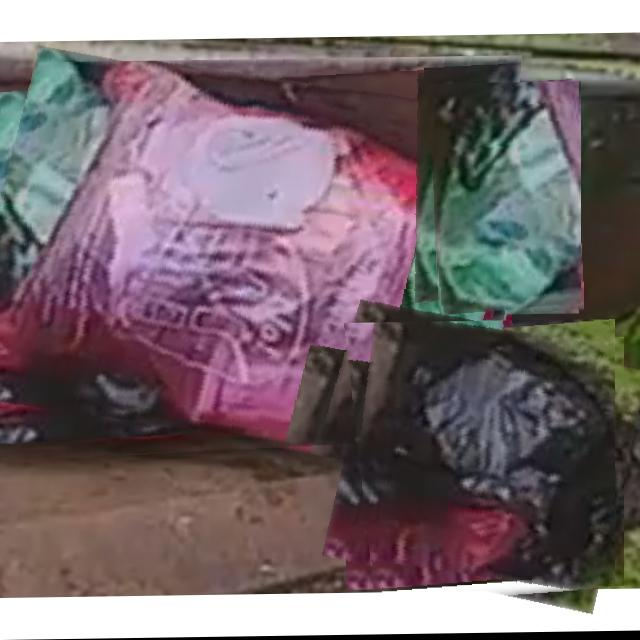general_trashbag: (434, 84, 580, 312)
other_trashbag: (0, 62, 513, 449), (357, 323, 615, 594)
